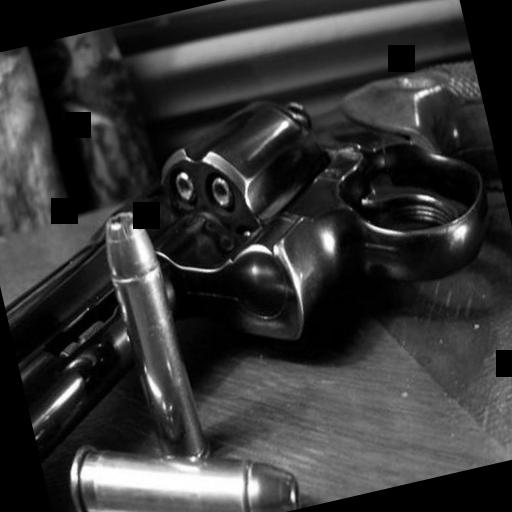Handgun: (0, 43, 512, 465)
